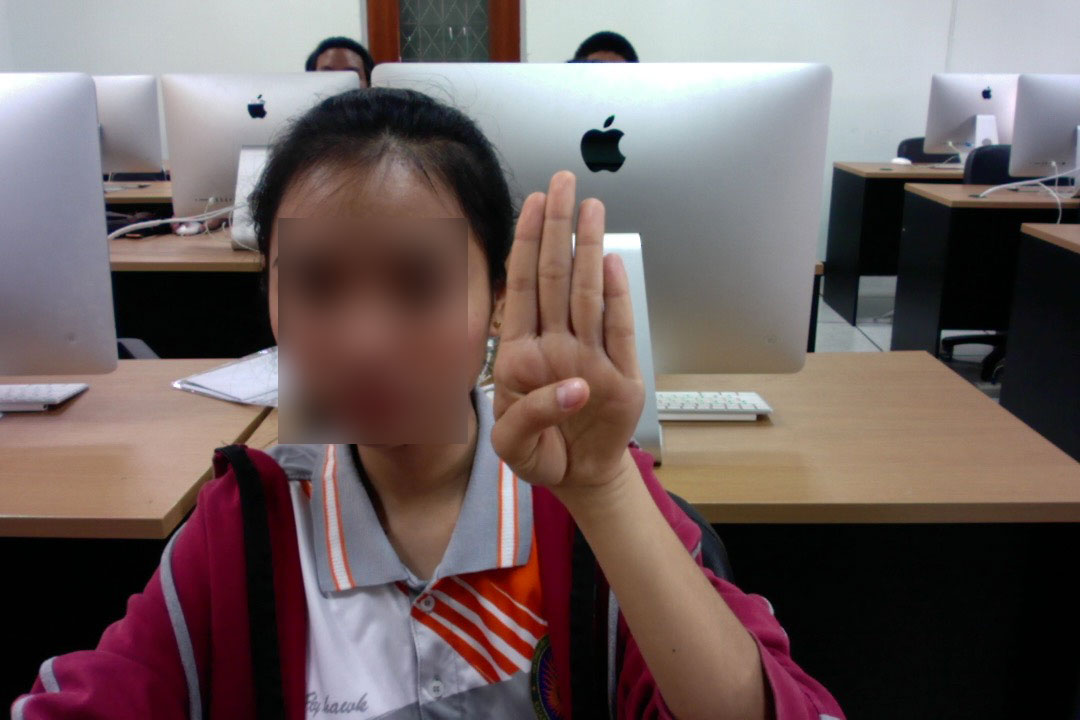bor: (474, 167, 662, 517)
